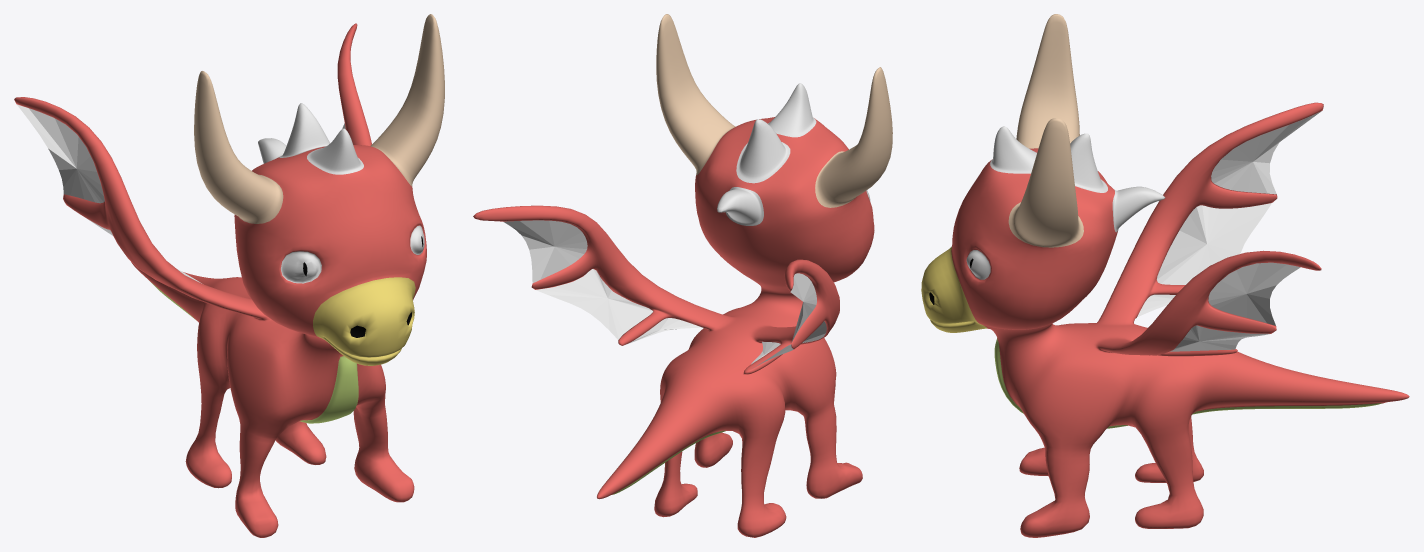
Rendered from DragonForBackground.fbx.
3 views of the same model, side by side, from view 1: azimuth 30°, elevation 25°; view 2: azimuth 150°, elevation 25°; view 3: azimuth 270°, elevation 25° (orthographic). The views are drawn at different scales.
Parts seen in each view (by area): view 1: Cube.005; view 2: Cube.005; view 3: Cube.005.
Part boxes in pixels (x1,y1,x2,y2): Cube.005: (14, 14, 444, 537); Cube.005: (473, 14, 892, 537); Cube.005: (921, 14, 1409, 537).
Bounding box in the file's own units: 2.22 × 2.9 × 2.92.
